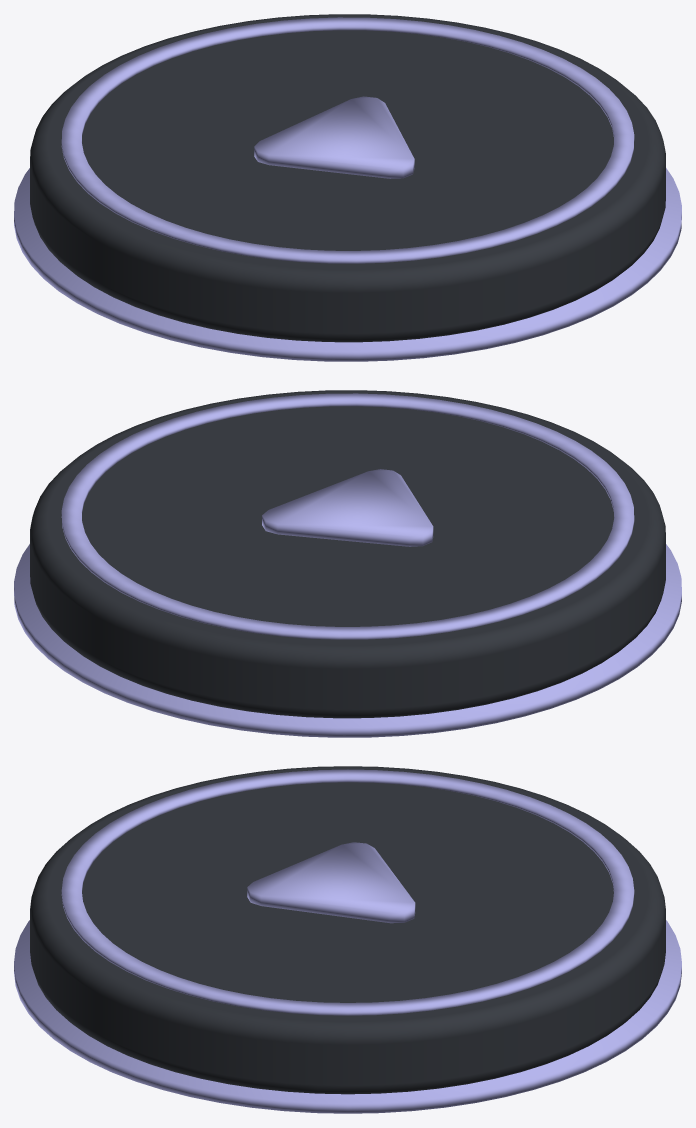
Rendered from start.glb.
3 views of the same model, one above another, from view 1: azimuth 30°, elevation 25°; view 2: azimuth 150°, elevation 25°; view 3: azimuth 270°, elevation 25° (orthographic).
Visible parts, largest first — view 1: module, edge, rim, play; view 2: module, edge, rim, play; view 3: module, edge, rim, play.
Part boxes in pixels (bbox=[...]): module: bbox=[30, 14, 665, 342]; edge: bbox=[61, 17, 634, 263]; rim: bbox=[14, 168, 681, 361]; play: bbox=[254, 96, 414, 178]; module: bbox=[30, 390, 665, 718]; edge: bbox=[61, 393, 634, 639]; rim: bbox=[14, 544, 681, 737]; play: bbox=[262, 469, 433, 546]; module: bbox=[30, 766, 665, 1094]; edge: bbox=[61, 769, 634, 1015]; rim: bbox=[14, 920, 681, 1113]; play: bbox=[247, 842, 415, 923].
Bounding box in the file's own units: 0.84 × 0.122 × 0.84.
